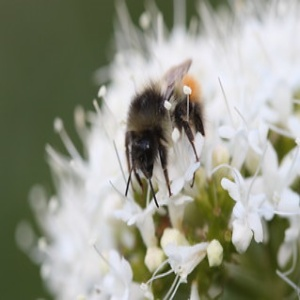bee: (128, 61, 209, 187)
